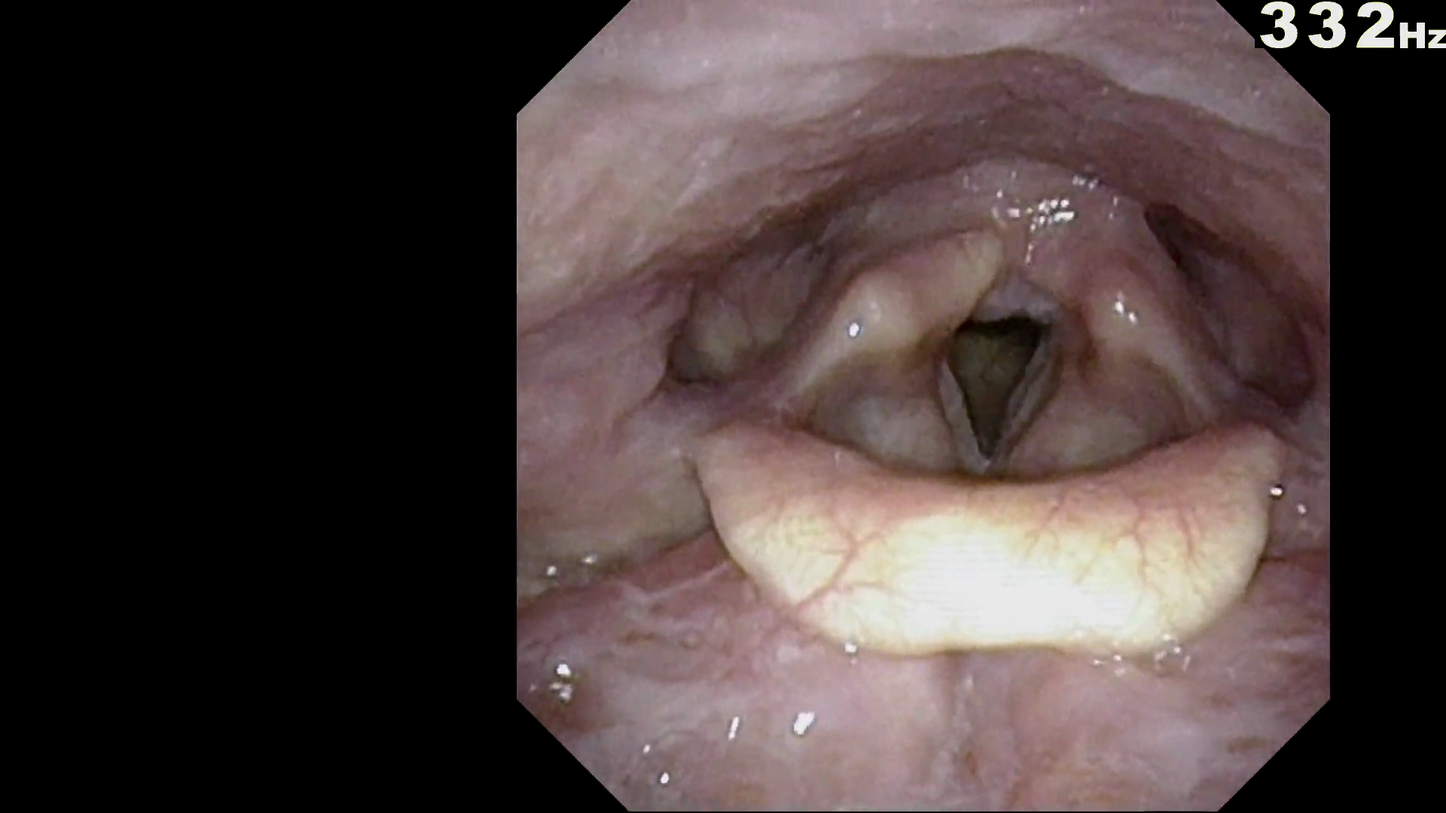epiglottis: (684, 407, 1292, 667)
trachea: (903, 282, 1083, 492)
